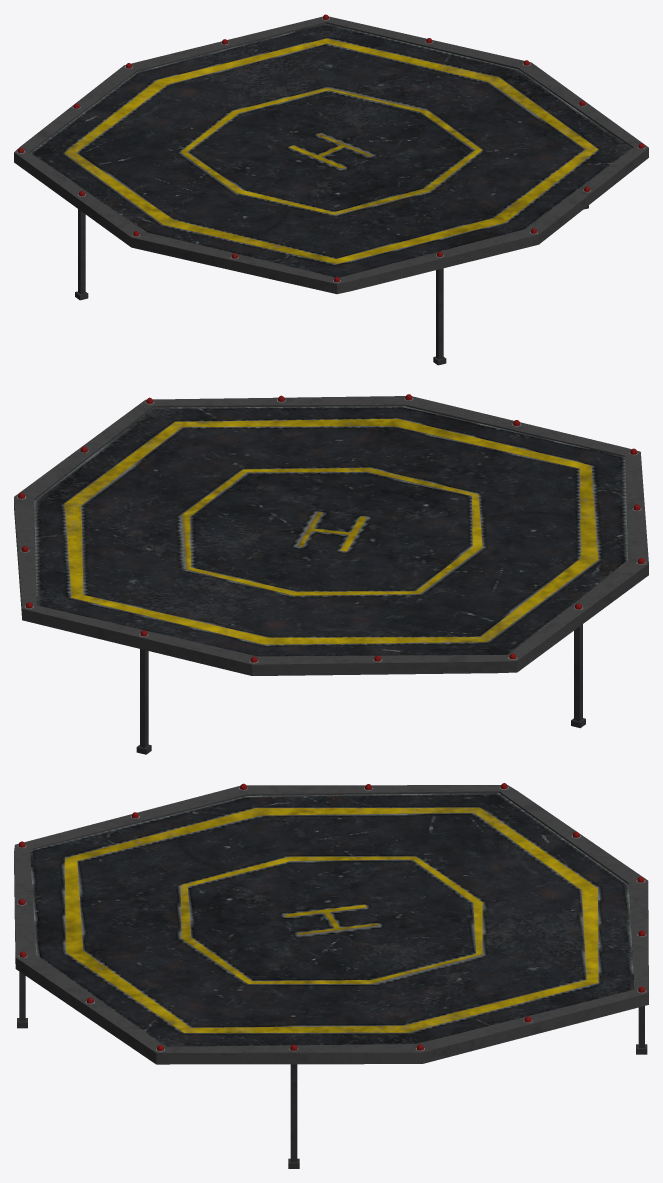
File: Heli1.fbx
3 views of the same model, one above another, from view 1: azimuth 30°, elevation 25°; view 2: azimuth 150°, elevation 25°; view 3: azimuth 270°, elevation 25° (orthographic). The views are drawn at different scales.
Visible parts, largest first — view 1: Plane.006; view 2: Plane.006; view 3: Plane.006.
Boxes of the visible parts, bbox=[...] form: Plane.006: bbox=[14, 14, 648, 365]; Plane.006: bbox=[14, 394, 648, 754]; Plane.006: bbox=[14, 783, 648, 1168].
Bounding box in the file's own units: 2098 × 463 × 2101.
Materials: 6 (6 with a texture image).
